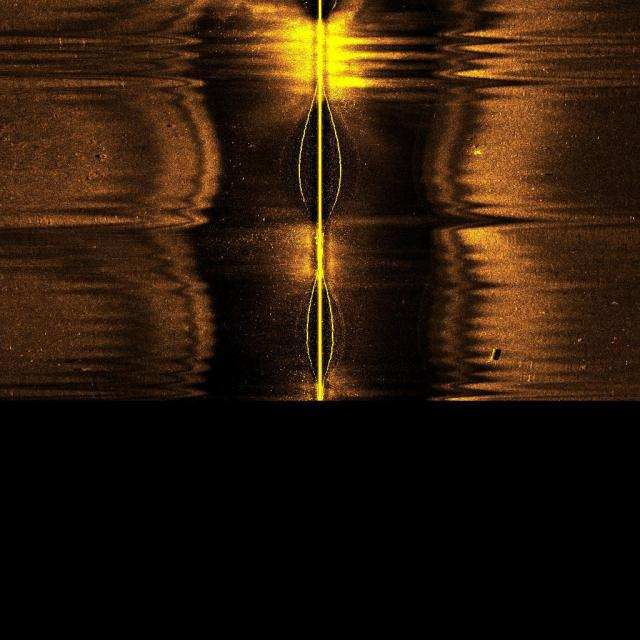mine: (490, 346, 503, 360)
